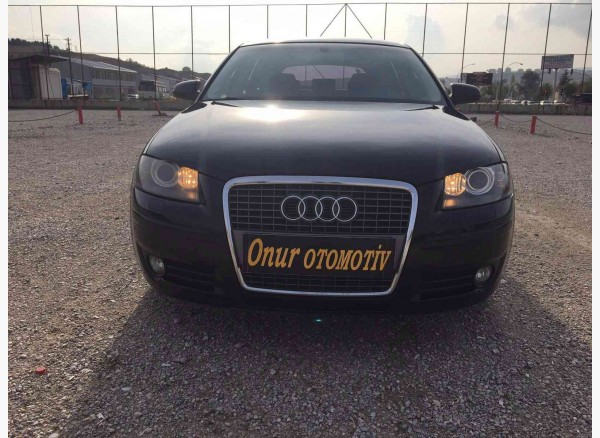audi: (272, 190, 360, 229)
